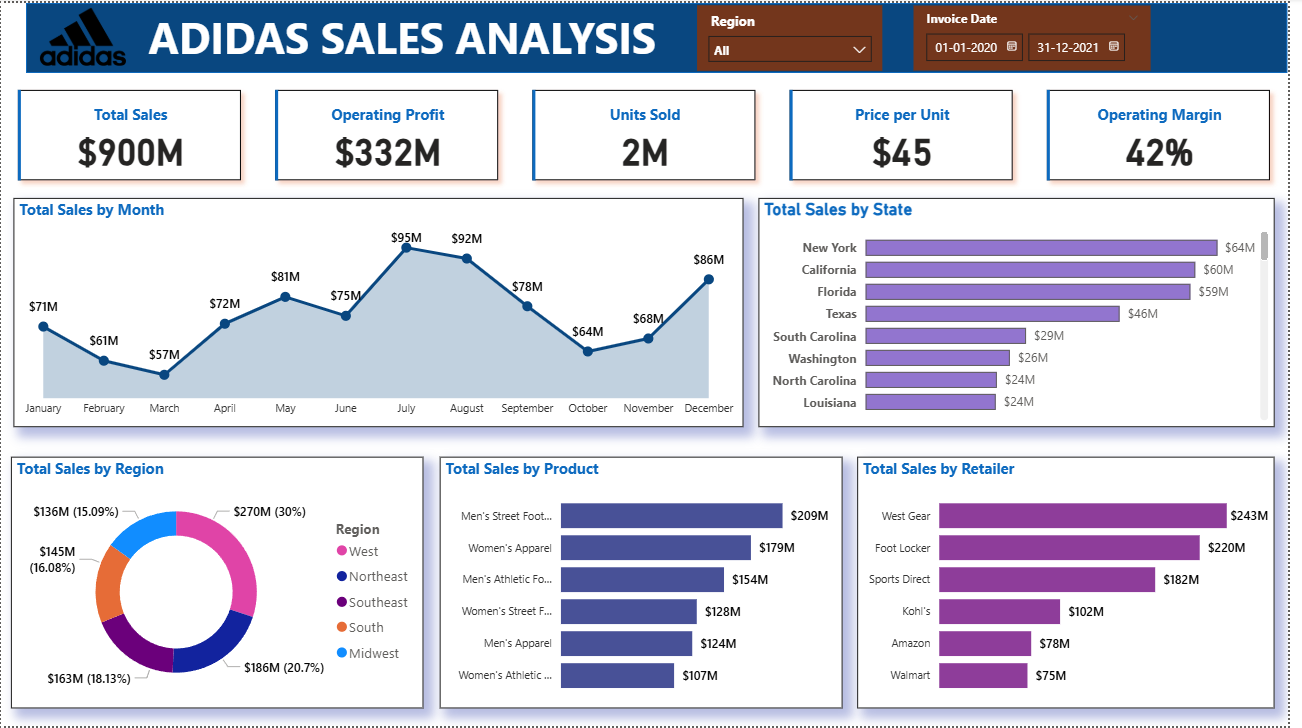

Layout of this report page (visuals, bound fields, positions):
{"tool":"powerbi","page":{"name":"Page 1","canvas":[1280,720],"ordinal":0},"visuals":[{"type":"textbox","box":[10,0,280,280],"z":0},{"type":"shape","box":[24.9,0,1255.2,69.7],"z":1000},{"type":"textbox","box":[141.8,0,622,69.7],"z":2000},{"type":"cardVisual","fields":{"Data":["Sum(Data Sales Adidas.Total Sales)","Sum(Data Sales Adidas.Operating Profit)","Sum(Data Sales Adidas.Units Sold)","Avg(Data Sales Adidas.Price per Unit)","Avg(Data Sales Adidas.Operating Margin)"]},"box":[0,69.7,1280,124.4],"z":3000},{"type":"areaChart","title":" Total Sales by Month","fields":{"Category":["Data Sales Adidas.Invoice Date.Variation.Date Hierarchy.Month"],"Y":["Sum(Data Sales Adidas.Total Sales)"]},"box":[12.4,194.1,726.5,227.6],"z":4000},{"type":"barChart","title":" Total Sales by State","fields":{"Category":["Data Sales Adidas.State"],"Y":["Sum(Data Sales Adidas.Total Sales)"]},"box":[753.8,194.1,513.8,227.6],"z":5000},{"type":"donutChart","title":"Total Sales by Region","fields":{"Category":["Data Sales Adidas.Region"],"Y":["Sum(Data Sales Adidas.Total Sales)"]},"box":[10,451.6,410.5,250],"z":6000},{"type":"barChart","title":" Total Sales by Product","fields":{"Category":["Data Sales Adidas.Product"],"Y":["Sum(Data Sales Adidas.Total Sales)"]},"box":[436.6,451.6,400.6,250],"z":7000},{"type":"barChart","title":" Total Sales by Retailer","fields":{"Y":["Sum(Data Sales Adidas.Total Sales)"],"Category":["Data Sales Adidas.Retailer"]},"box":[852.1,451.6,415.5,250],"z":8000},{"type":"slicer","fields":{"Values":["Data Sales Adidas.Region"]},"box":[692.9,2.5,184.1,64.7],"z":9000},{"type":"slicer","fields":{"Values":["Data Sales Adidas.Invoice Date"]},"box":[908.1,2.5,236.4,64.7],"z":9001},{"type":"image","box":[10,0,143.1,67.2],"z":9002}]}

Visuals, with their boxes in screenshot pixels (x1, y1, x2, y2), scaled from the page's 1280x720 canvas onto the 1302x728 screenshot:
textbox: <bbox>10, 0, 295, 283</bbox>
shape: <bbox>25, 0, 1301, 70</bbox>
textbox: <bbox>144, 0, 777, 70</bbox>
cardVisual - Sum(Data Sales Adidas.Total Sales) x Sum(Data Sales Adidas.Operating Profit): <bbox>0, 70, 1301, 196</bbox>
" Total Sales by Month" areaChart: <bbox>13, 196, 752, 426</bbox>
" Total Sales by State" barChart: <bbox>767, 196, 1289, 426</bbox>
"Total Sales by Region" donutChart: <bbox>10, 457, 428, 709</bbox>
" Total Sales by Product" barChart: <bbox>444, 457, 852, 709</bbox>
" Total Sales by Retailer" barChart: <bbox>867, 457, 1289, 709</bbox>
slicer - Data Sales Adidas.Region: <bbox>705, 3, 892, 68</bbox>
slicer - Data Sales Adidas.Invoice Date: <bbox>924, 3, 1164, 68</bbox>
image: <bbox>10, 0, 156, 68</bbox>
